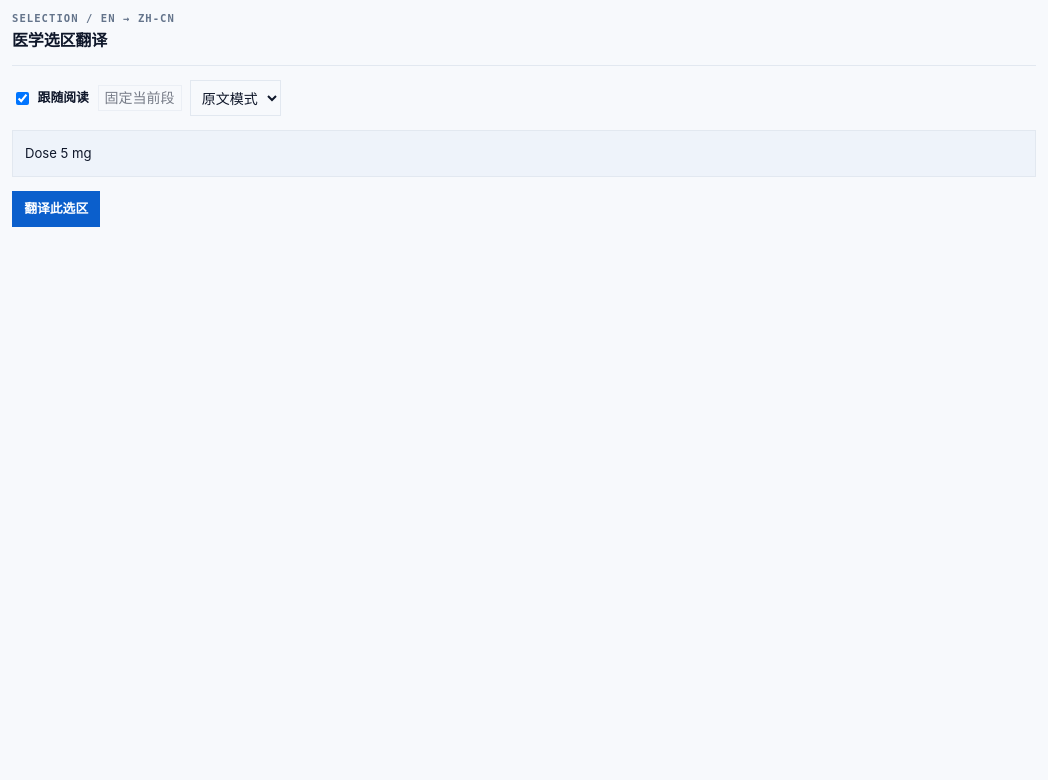
Test case: MedicalTranslationPanel › shows aligned result, terminology evidence, blocking issues and correction controls
What coordinates should you click on to do the following:
click the button "翻译此选区"
I would click on:
 (56, 209)
Its box is [12,191,100,227].
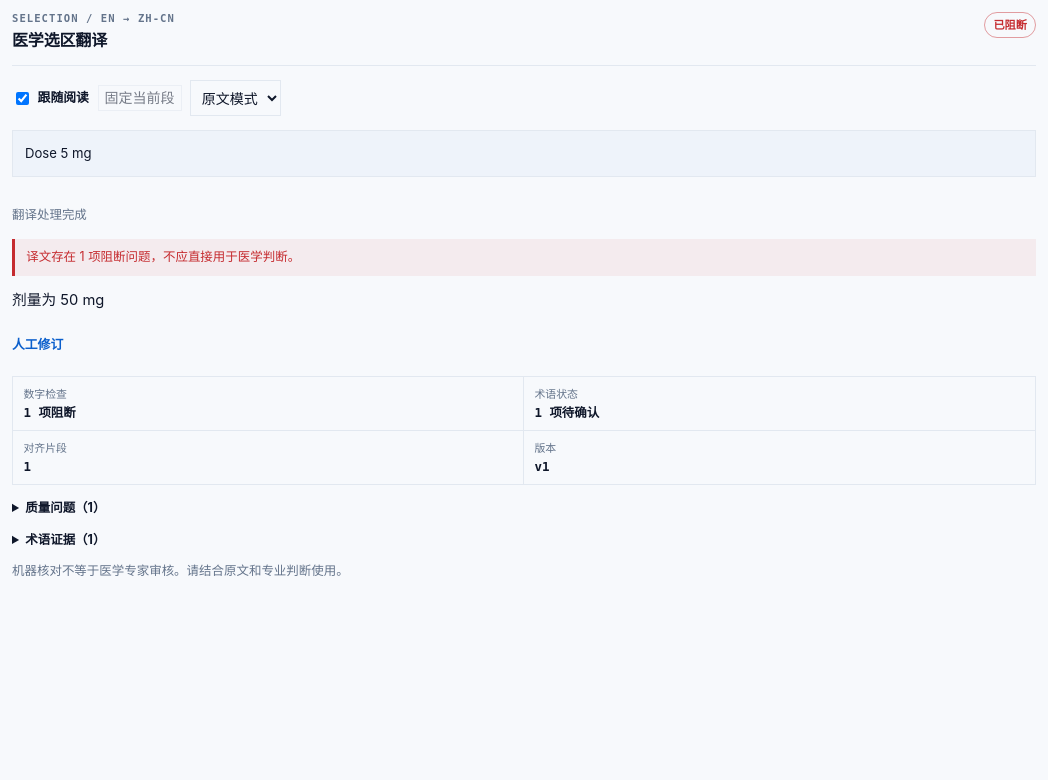
expect the text "剂量为 50 mg" is shown: met, box [12,291,104,309]
expect the text "1 项阻断" is shown: met, box [26,250,300,264]
expect the text "1 项待确认" is shown: met, box [534,405,599,420]
What coordinates should you click on to do the following:
click the button "人工修订"
I would click on:
 (38, 345)
Its box is [12,327,63,363].
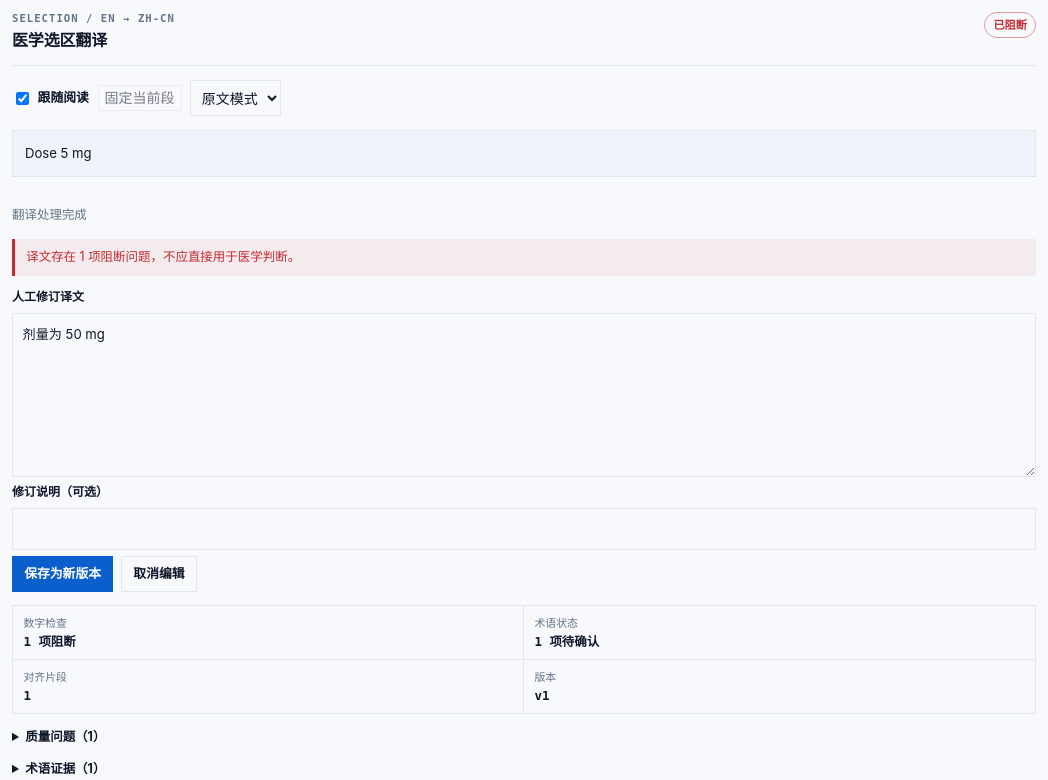
expect the label "人工修订译文" is shown: met, box [12,289,84,304]
